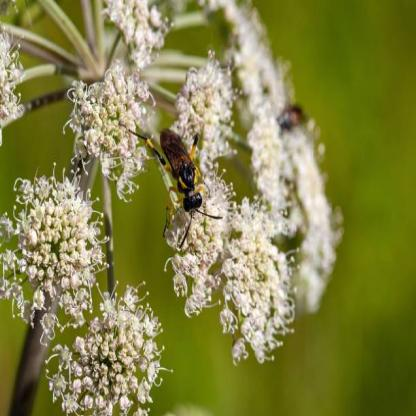sawfly: (133, 115, 222, 248)
